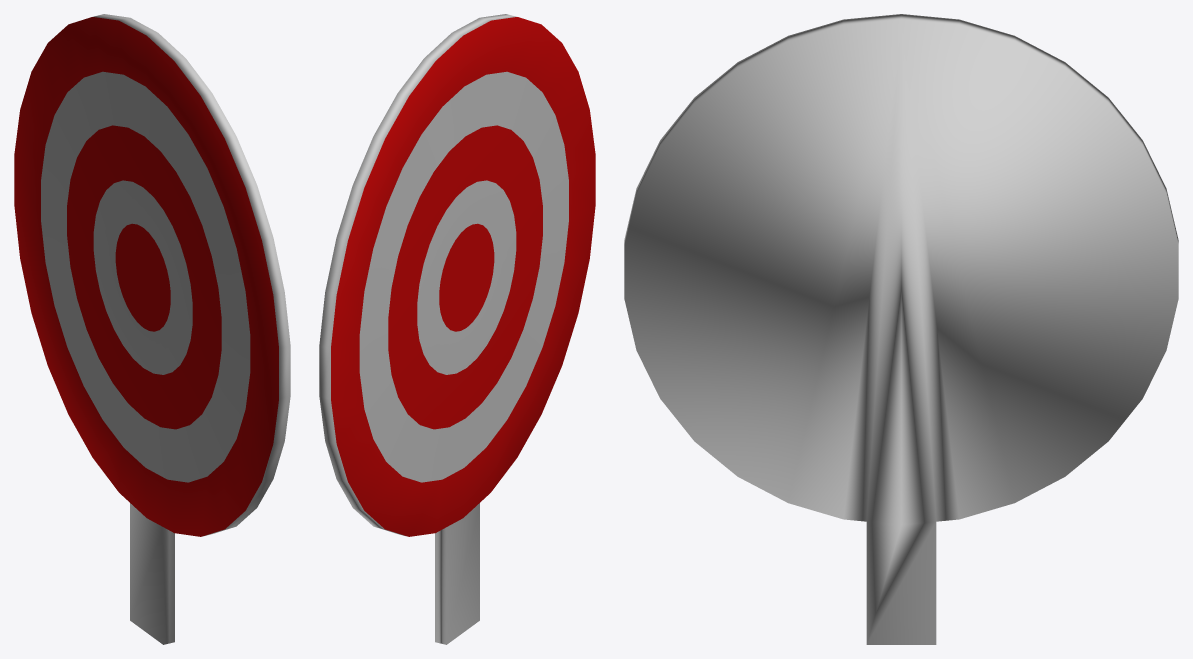
Rendered from ground_target.fbx.
3 renders of one model, left to right at view 1: azimuth 30°, elevation 25°; view 2: azimuth 150°, elevation 25°; view 3: azimuth 270°, elevation 25°, orthographic. The views are drawn at different scales.
Parts seen in each view (by area): view 1: Mesh; view 2: Mesh; view 3: Mesh.
Part boxes in pixels (x1,y1,x2,y2): Mesh: (14,14,290,644); Mesh: (319,14,595,644); Mesh: (624,14,1178,644).
Size of the model in its own units: 5.25 by 200 by 161.
